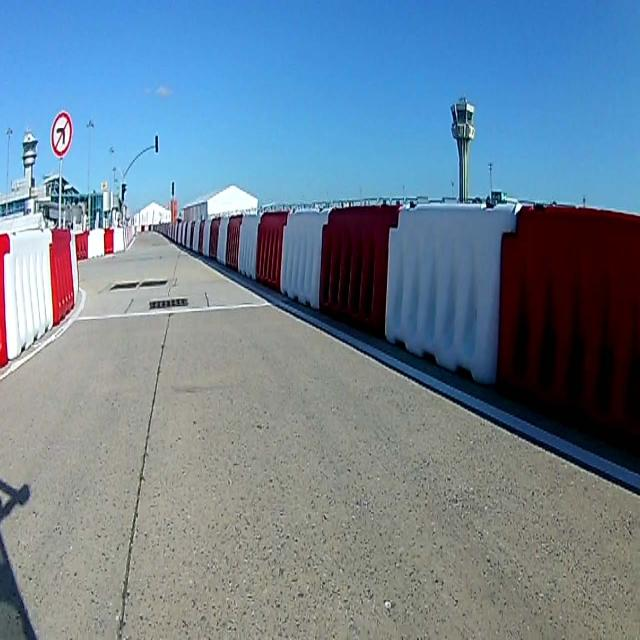soladonulmez: (49, 110, 74, 158)
